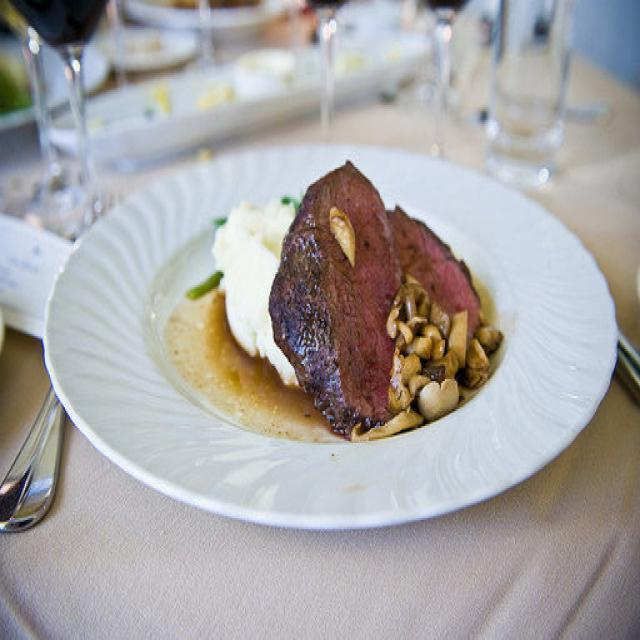Steak: (271, 167, 520, 451)
